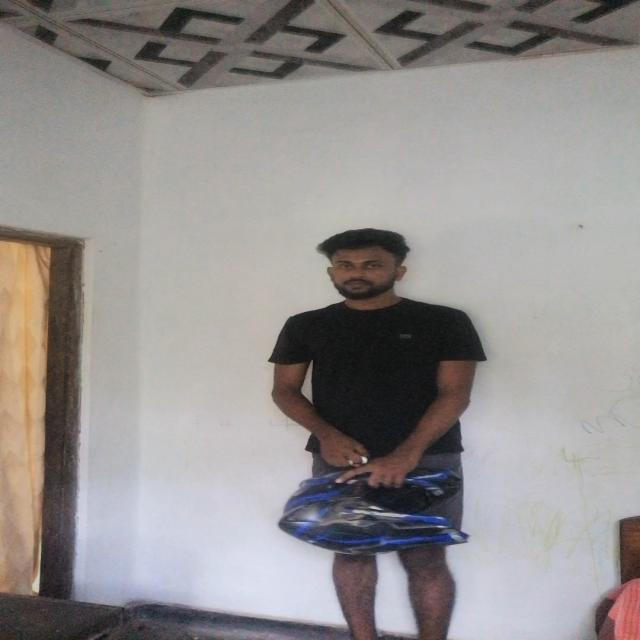Person: (234, 224, 490, 621)
